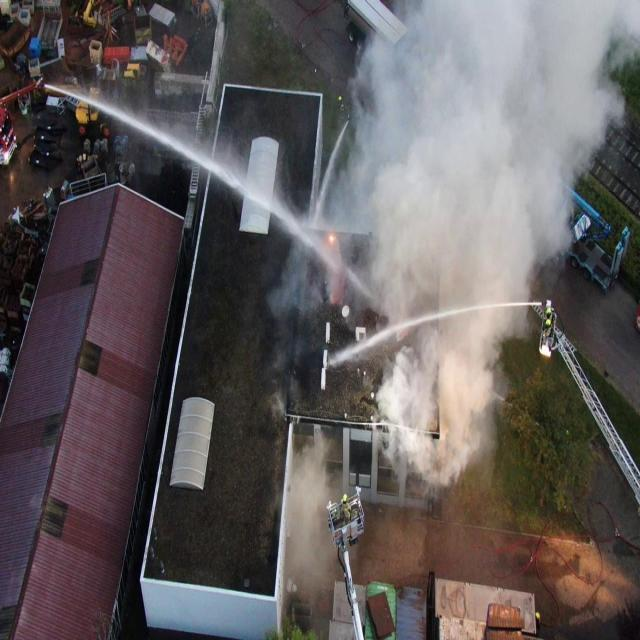Fire: (328, 234, 334, 242)
Smoke: (267, 0, 640, 505), (283, 431, 343, 601)
